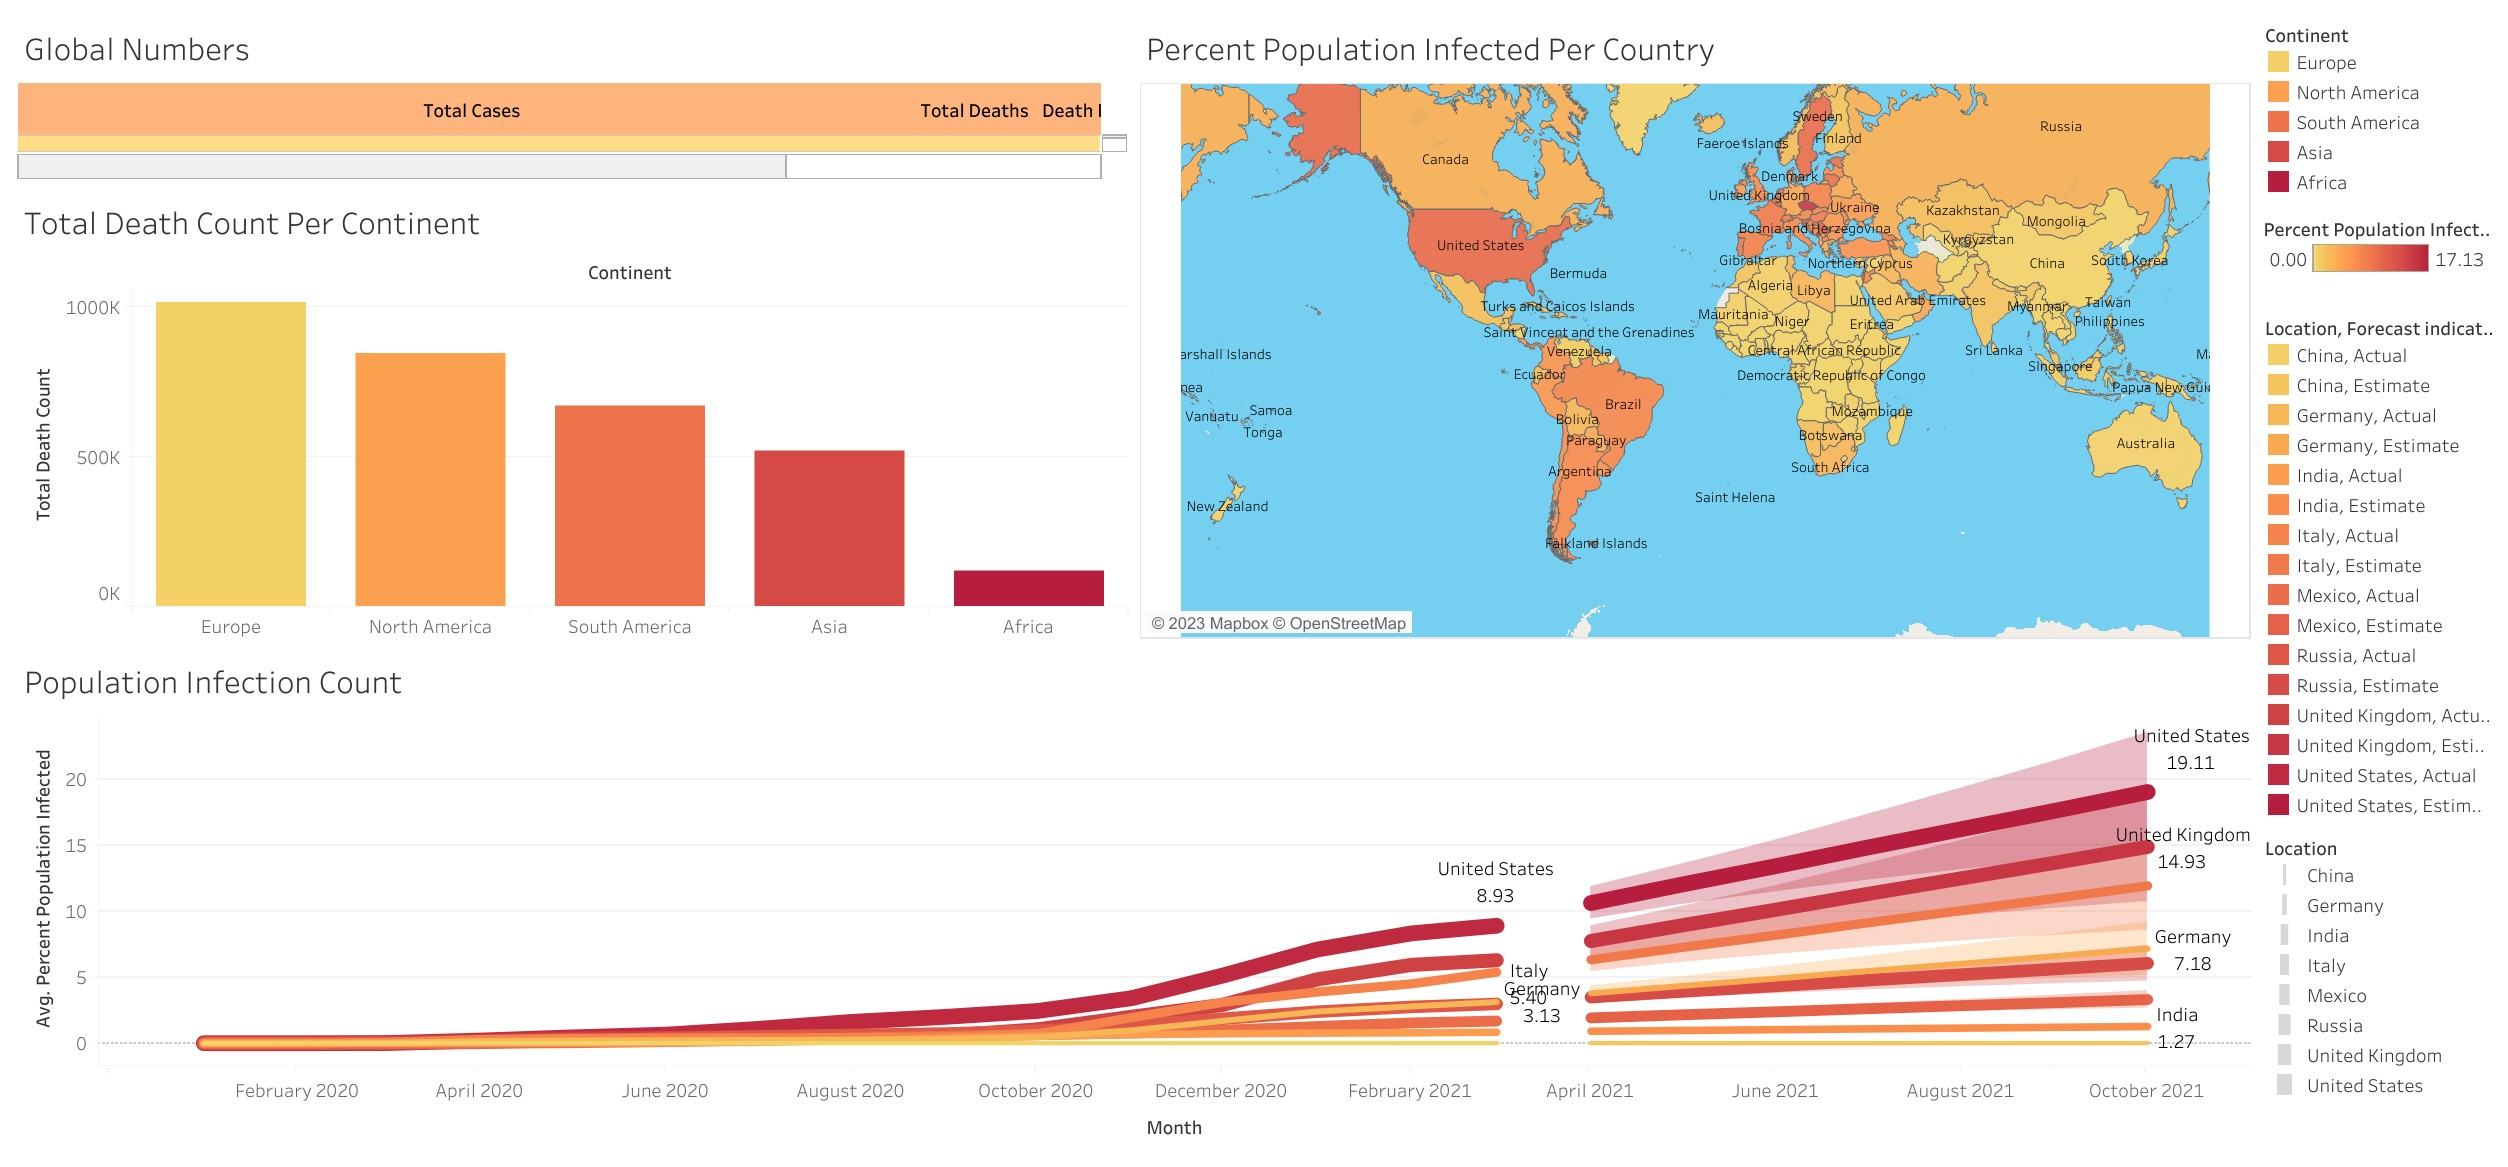

This screenshot's page, from the dashboard's own definition file:
{"tool":"tableau","page":{"name":"Covid19 Dashboard","canvas":[1000,1000],"units":"permille","ordinal":0},"visuals":[{"type":"worksheet","title":"Global Numbers","mark":"Automatic","box":[3.6,6,460.8,144.8]},{"type":"worksheet","title":"Percent Population Infected Per Country","mark":"Automatic","box":[464.3,6,460.8,546.8]},{"type":"legend","title":"Total Death Count Per Continent","param":"[federated.0zfnczp1k63pi01g5ibvj1xf6i2b].[none:Location:nk]","box":[925.1,6,71.3,119.9]},{"type":"legend","title":"Percent Population Infected Per Country","param":"[federated.0k1bqci1opz98911azfqe02jadnp].[sum:Percent_Population_Infected:qk]","box":[925.1,125.9,71.3,61.1]},{"type":"worksheet","title":"Total Death Count Per Continent","mark":"Bar","rows":["Total_Death_Count"],"cols":["Location"],"box":[3.6,150.8,460.8,401.9]},{"type":"legend","title":"Population Infection Count","param":"[federated.0wzyxuh1g6plis17jx3k704t7qey].[none:Location:nk]\n[federated.0wzyxuh1g","box":[925.1,187,71.3,327.3]},{"type":"legend","title":"Population Infection Count","param":"[federated.0wzyxuh1g6plis17jx3k704t7qey].[none:Location:nk]","box":[925.1,514.3,71.3,20.4]},{"type":"worksheet","title":"Population Infection Count","mark":"Line","rows":["Percent_Population_Infected"],"cols":["Date"],"box":[3.6,552.8,921.6,441.2]}]}

Visuals, with their boxes on the dashboard's canvas, which has no fixed pixel size, in thousandths of its width and height (x1, y1, x2, y2). These are canvas units, not pixel positions in the 2508x1167 screenshot, which may show the page scaled, cropped or inside an application window:
"Global Numbers" worksheet: x1=4 y1=6 x2=464 y2=151
"Percent Population Infected Per Country" worksheet: x1=464 y1=6 x2=925 y2=553
"Total Death Count Per Continent" legend: x1=925 y1=6 x2=996 y2=126
"Percent Population Infected Per Country" legend: x1=925 y1=126 x2=996 y2=187
"Total Death Count Per Continent" worksheet (Bar marks): x1=4 y1=151 x2=464 y2=553
"Population Infection Count" legend: x1=925 y1=187 x2=996 y2=514
"Population Infection Count" legend: x1=925 y1=514 x2=996 y2=535
"Population Infection Count" worksheet (Line marks): x1=4 y1=553 x2=925 y2=994
